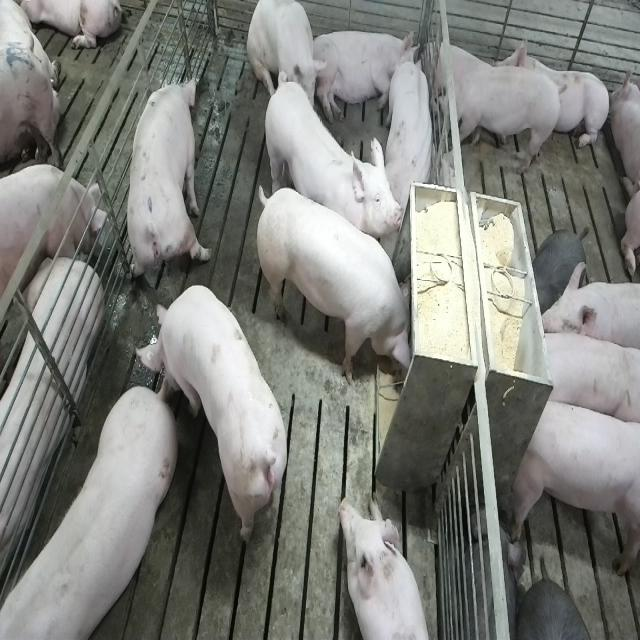Feeding: (258, 181, 421, 393)
Lateral_lying: (0, 242, 101, 609), (310, 26, 418, 127)
Sitting: (246, 2, 324, 132)
Standing: (0, 383, 174, 640), (132, 287, 285, 547), (506, 388, 638, 579), (260, 76, 401, 247), (124, 73, 210, 294), (0, 167, 105, 311), (442, 66, 562, 182), (538, 327, 638, 428), (538, 264, 640, 355)
Sternal_lying: (337, 493, 433, 640), (499, 30, 609, 154)
